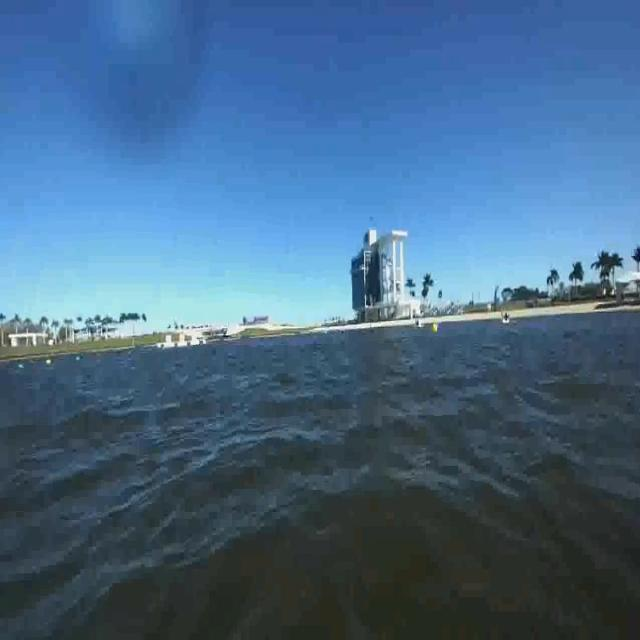yellow-buoy: (432, 321, 438, 334)
